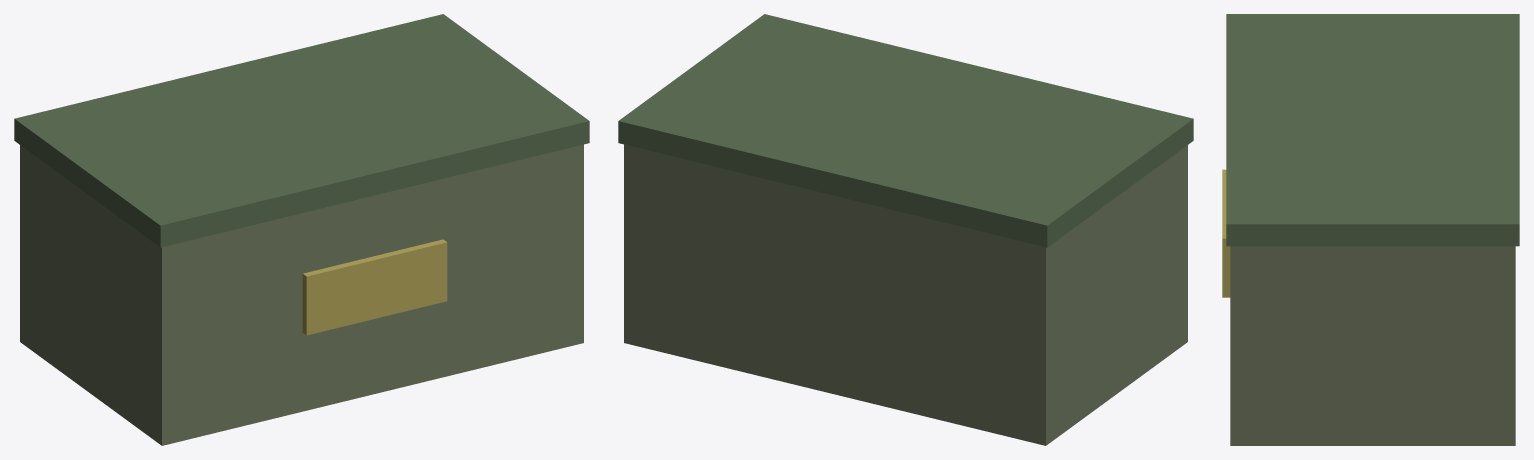
The model's file is p_crate_ammo.glb.
The picture shows the model from 3 angles, left to right: view 1: azimuth 30°, elevation 25°; view 2: azimuth 150°, elevation 25°; view 3: azimuth 270°, elevation 25°; orthographic projection.
Parts seen in each view (by area): view 1: body; view 2: body; view 3: body.
Boxes of the visible parts, left/top/right/bottom form: body: left=14, top=14, right=589, bottom=445; body: left=618, top=14, right=1193, bottom=445; body: left=1222, top=14, right=1519, bottom=445.
Size of the model in its own units: 1.22 by 0.605 by 0.73.
